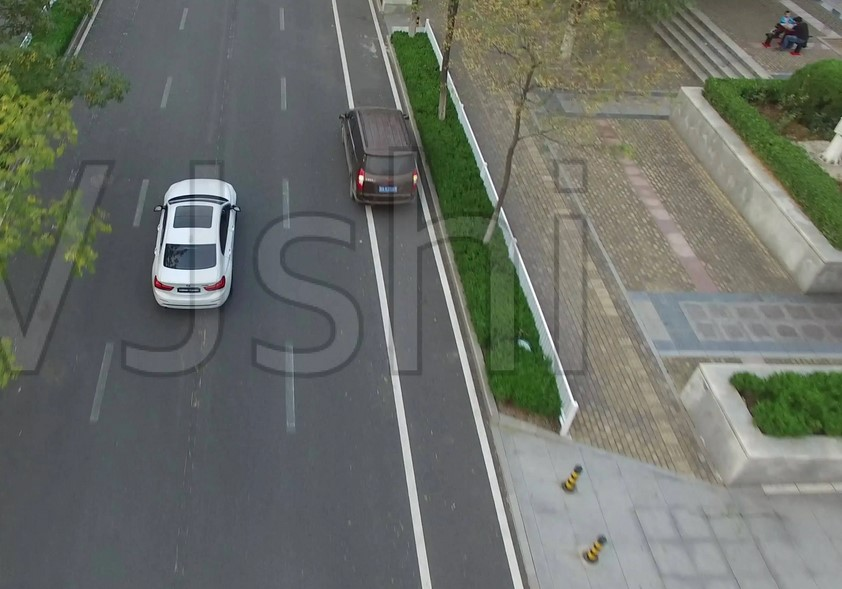car: (151, 177, 241, 312), (338, 107, 419, 204)
